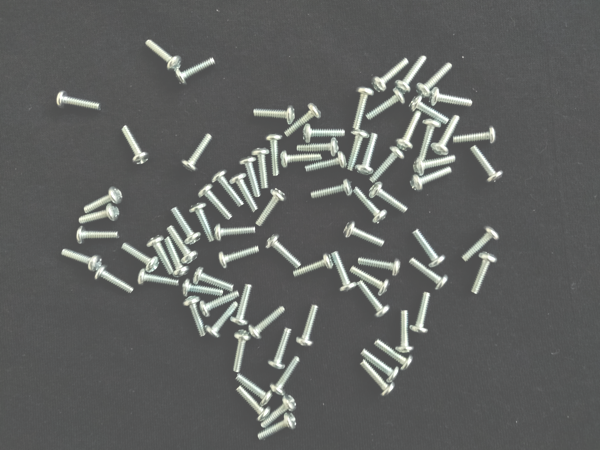shortscrew: (415, 62, 454, 100), (394, 54, 427, 98), (461, 226, 499, 263), (412, 229, 447, 269), (360, 360, 396, 398), (369, 145, 405, 183), (470, 145, 505, 184), (361, 350, 400, 384), (371, 58, 410, 92), (284, 103, 323, 137), (409, 258, 449, 291), (198, 183, 233, 220), (354, 186, 388, 224), (248, 306, 287, 339), (375, 339, 414, 372), (167, 225, 198, 266), (266, 233, 301, 269), (205, 302, 239, 339), (236, 373, 273, 407), (237, 386, 271, 423), (121, 243, 160, 275), (182, 133, 213, 173), (350, 266, 390, 297), (471, 251, 499, 295), (431, 116, 461, 157), (357, 281, 390, 318), (212, 170, 245, 207), (255, 188, 287, 226), (95, 264, 135, 294), (145, 40, 182, 72), (370, 183, 408, 214), (342, 221, 384, 249), (270, 357, 299, 397), (260, 396, 297, 427), (175, 58, 217, 85), (122, 123, 149, 165), (83, 186, 123, 214), (230, 172, 258, 212), (266, 328, 292, 371), (410, 167, 453, 193), (146, 234, 173, 275), (172, 207, 201, 245), (200, 290, 240, 317), (354, 133, 379, 176), (165, 238, 191, 279), (258, 414, 297, 441), (61, 248, 103, 273), (418, 118, 443, 160), (397, 111, 423, 151), (453, 126, 498, 149), (296, 305, 320, 348), (293, 253, 334, 278), (332, 251, 357, 292), (183, 296, 207, 338), (55, 91, 100, 113), (310, 179, 355, 201), (352, 86, 375, 129), (305, 151, 348, 174), (230, 284, 253, 326), (193, 267, 235, 290), (137, 268, 180, 290), (410, 292, 432, 335), (413, 154, 456, 176), (239, 156, 261, 198), (190, 203, 213, 243), (358, 256, 401, 277), (218, 246, 259, 268), (347, 130, 369, 171), (429, 88, 474, 108), (79, 203, 119, 225), (232, 330, 252, 373), (395, 311, 415, 354), (296, 138, 339, 158), (302, 124, 346, 143), (76, 225, 119, 244), (214, 224, 257, 243), (182, 277, 224, 296), (254, 105, 296, 124), (280, 151, 323, 169), (252, 148, 270, 189), (268, 133, 283, 176)
